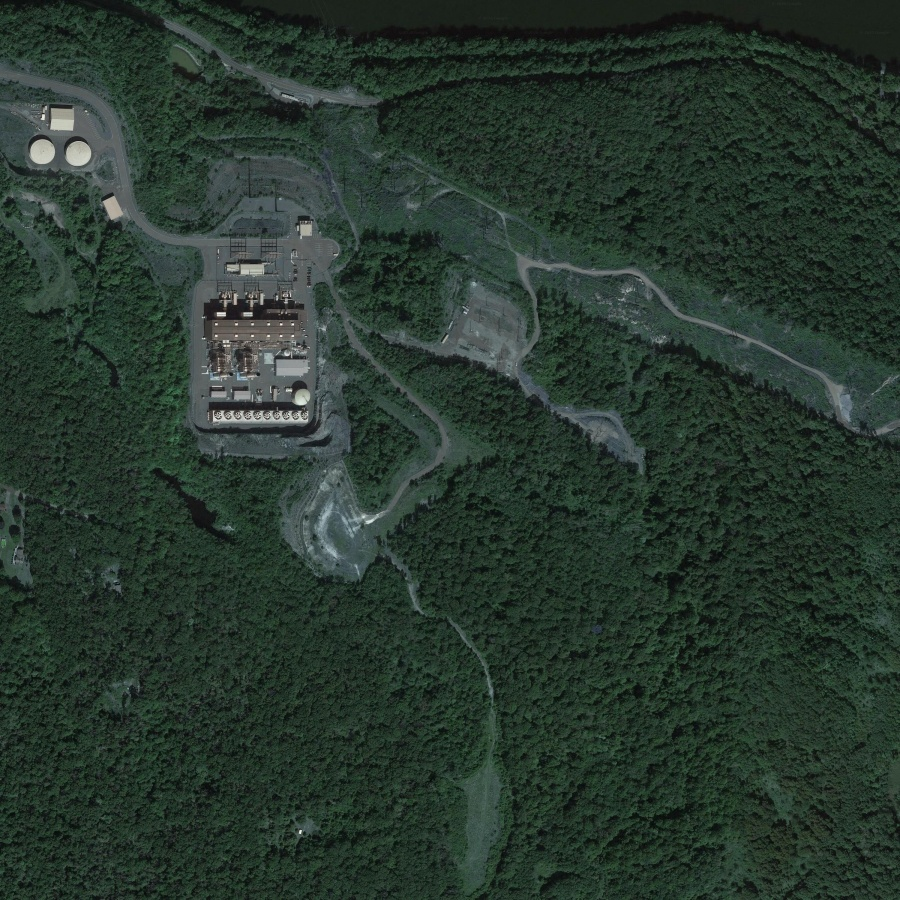PowerPlant: (195, 200, 341, 440)
